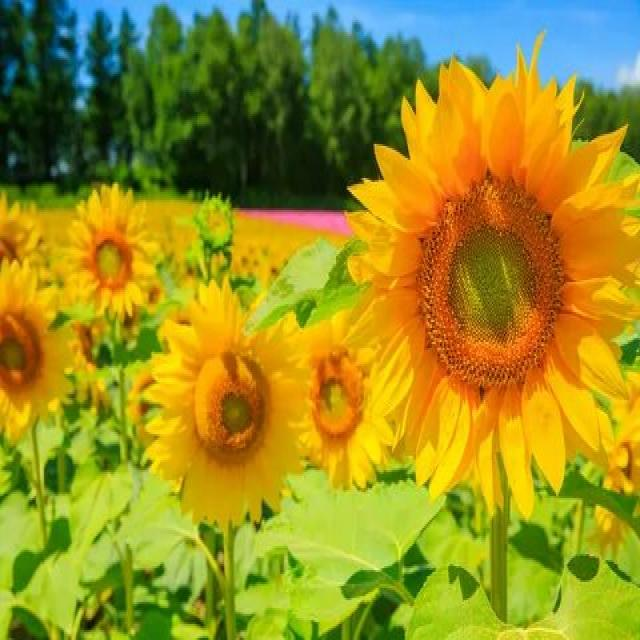sunflower: (326, 42, 640, 508), (138, 276, 330, 530), (295, 318, 395, 497), (0, 253, 78, 443), (62, 180, 162, 326)
